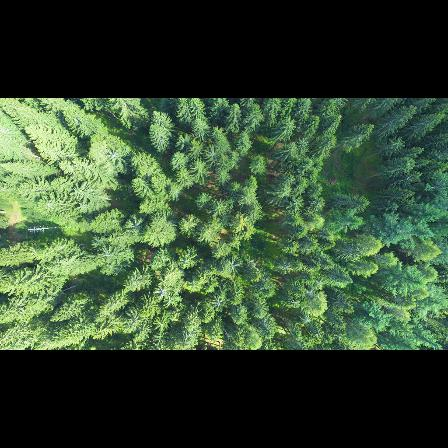Dead: (22, 219, 51, 237)
Sick: (120, 214, 147, 234), (206, 290, 229, 312), (220, 256, 244, 277), (203, 141, 224, 162), (297, 310, 315, 329), (152, 283, 169, 300), (311, 274, 326, 291), (287, 293, 302, 310)
